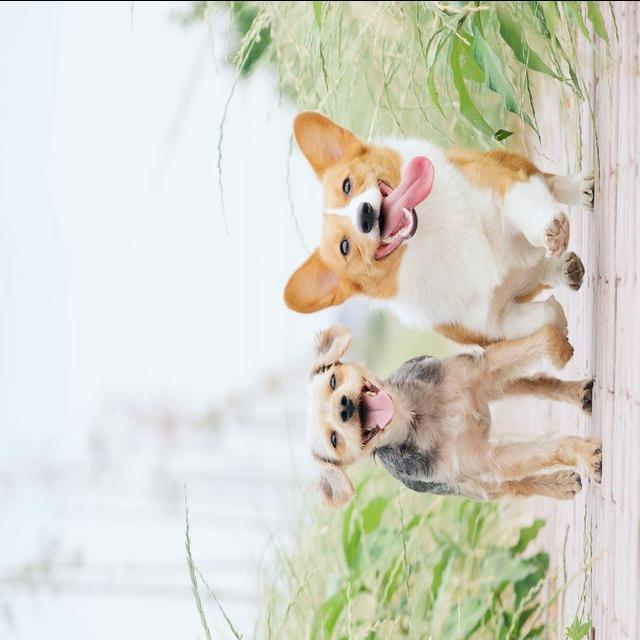corgi: (281, 110, 596, 350)
